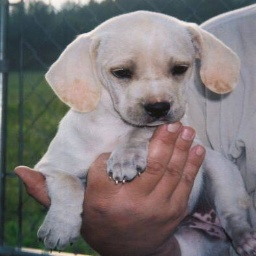dog: (33, 7, 256, 256)
